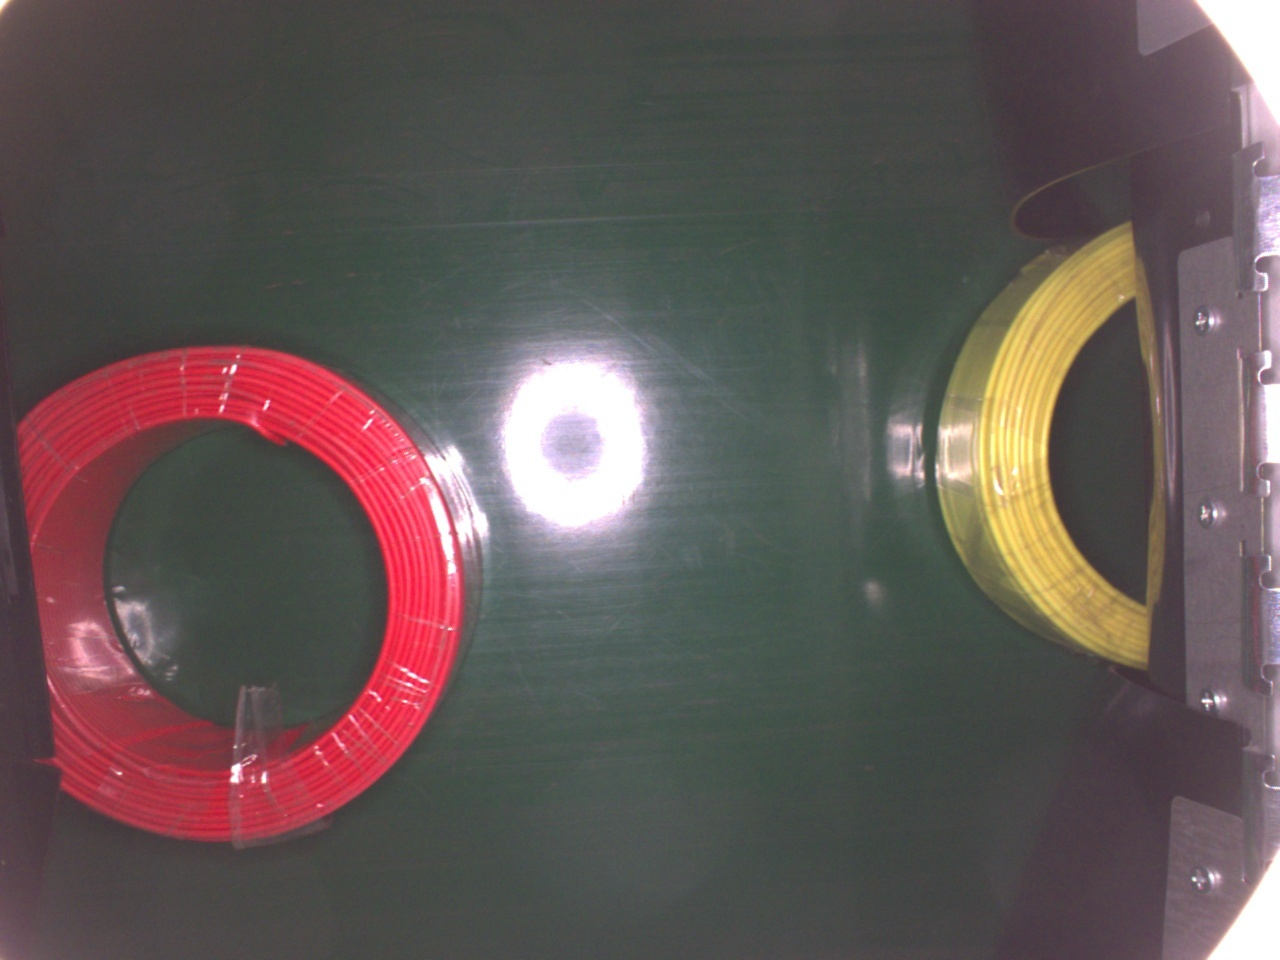red: (11, 341, 472, 853)
yellow: (927, 218, 1166, 674)
